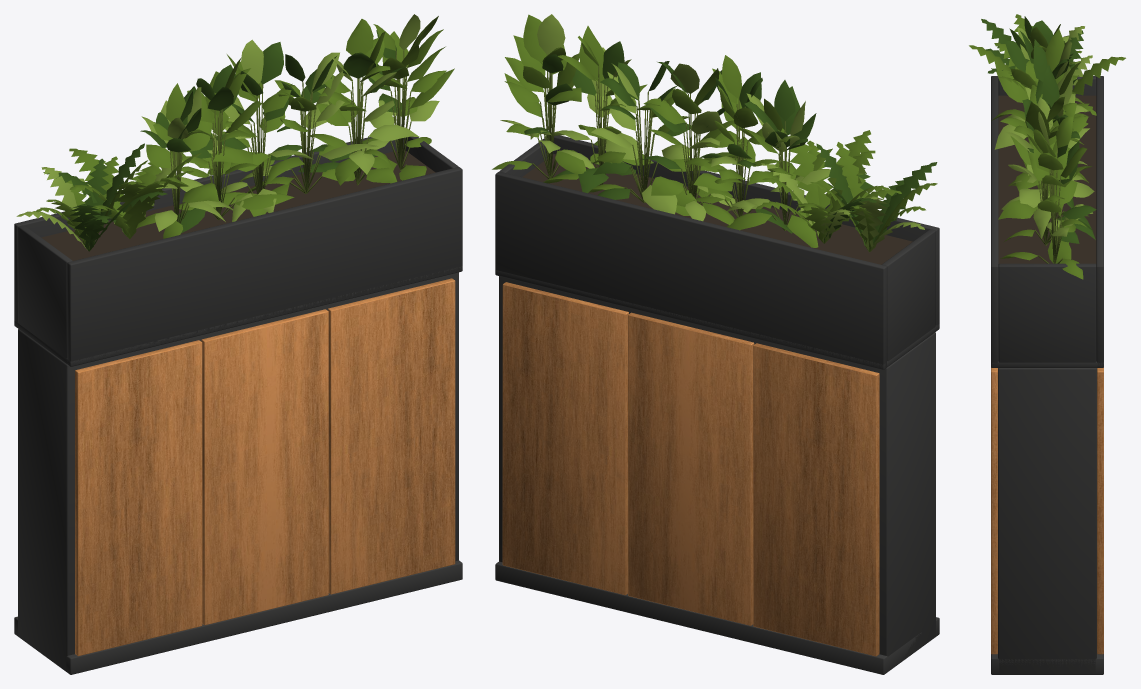
File: greenery.planter-divider-medium.glb
The picture shows the model from 3 angles, left to right: view 1: azimuth 30°, elevation 25°; view 2: azimuth 150°, elevation 25°; view 3: azimuth 270°, elevation 25°; orthographic projection.
Visible parts, largest first — view 1: greenery.planter-divider-medium.001; view 2: greenery.planter-divider-medium.001; view 3: greenery.planter-divider-medium.001.
Part boxes in pixels (left/top/right/bottom): greenery.planter-divider-medium.001: left=14, top=14, right=462, bottom=674; greenery.planter-divider-medium.001: left=492, top=14, right=939, bottom=674; greenery.planter-divider-medium.001: left=969, top=14, right=1125, bottom=674.
Size of the model in its own units: 1.32 by 1.62 by 0.42.
Materials: 7 (1 with a texture image).
